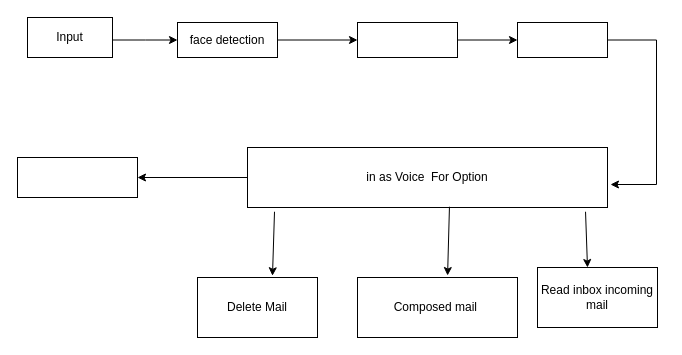
This 682x355 diagram has some shape labels left out. Each missing label, with the centre of its shape:
face recognition: (x=407, y=40)
login: (x=562, y=40)
Read Text and output as a voice: (x=77, y=177)
